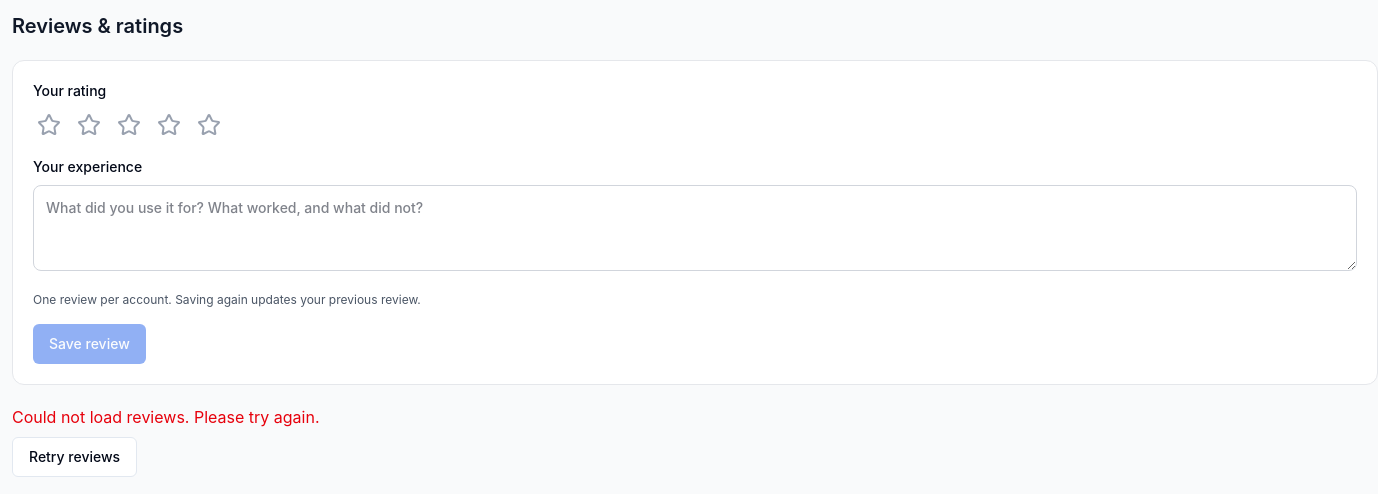
retries a failed review load instead of presenting an empty collection
Expected: the message shows "Could not load reviews", [12, 407, 320, 427]
Expected: the text "No ratings yet" is not shown
Step 1. Click the button "Retry reviews" → (75,457), box [12, 437, 137, 477]
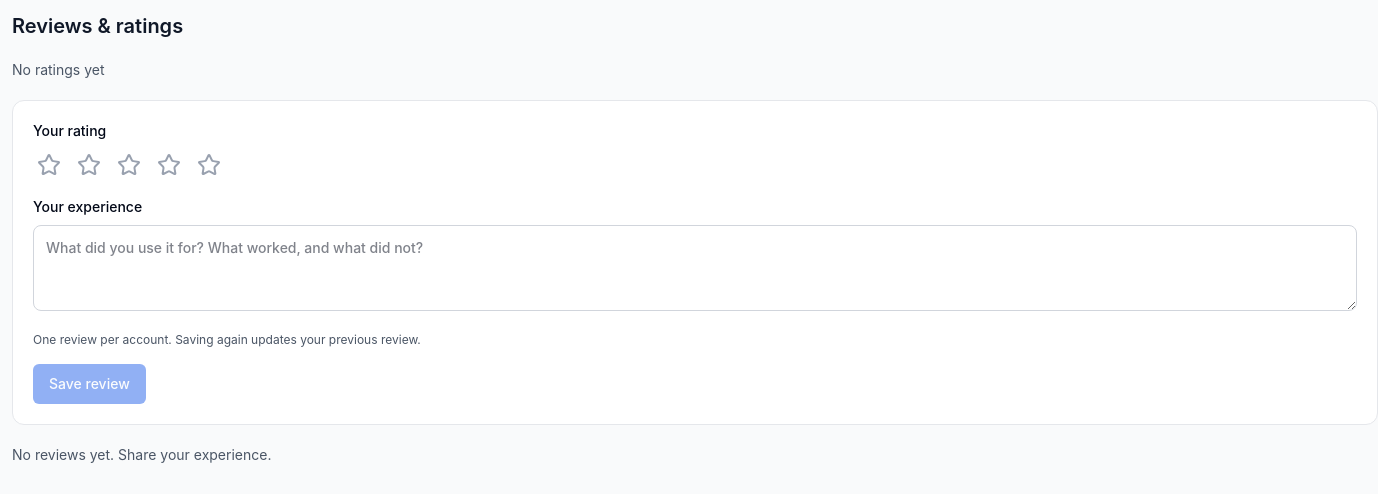
Expected: the text "No ratings yet" is shown, [12, 61, 104, 78]
